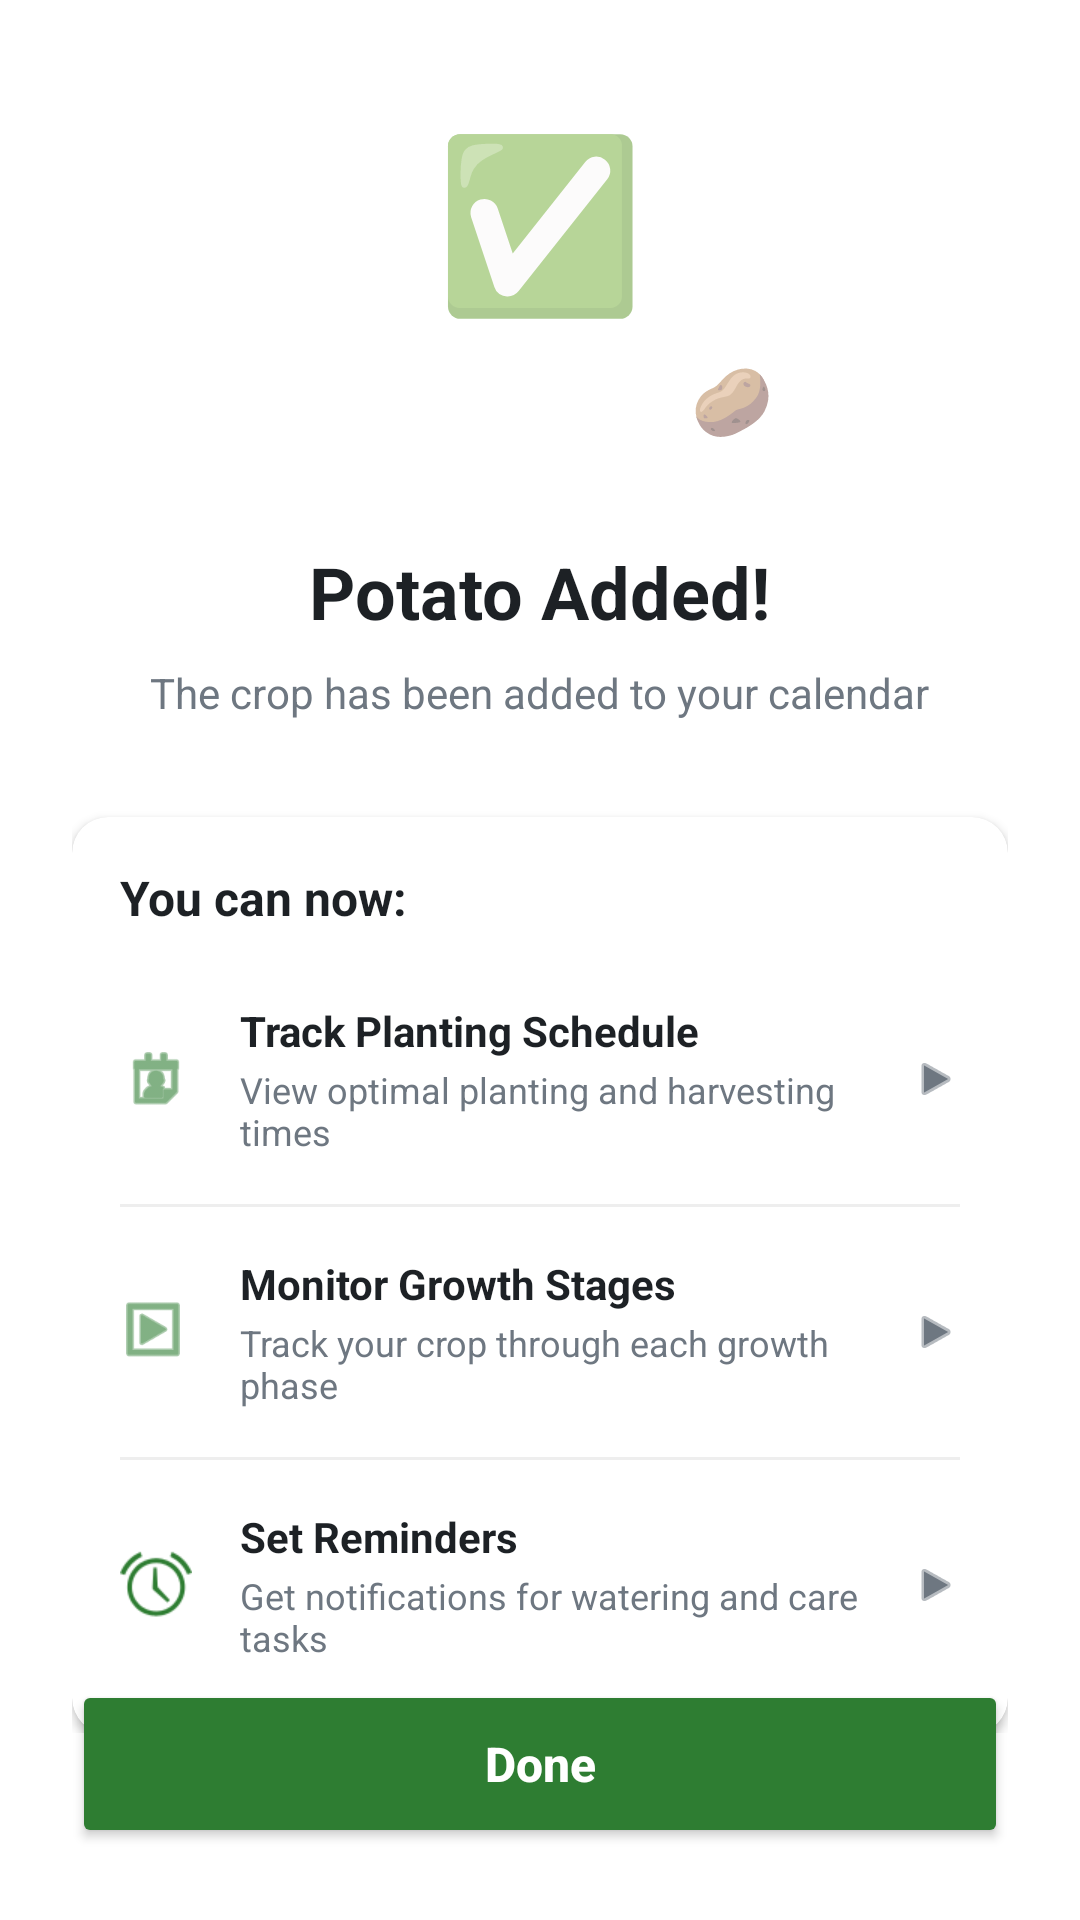

Icon click points for this 1080px x 1920px phone screenshot, format point (x, y):
lock idle alarm: point (156, 1584)
play: point (936, 1079), point (936, 1332), point (936, 1585)
slideshow: point (153, 1329)
